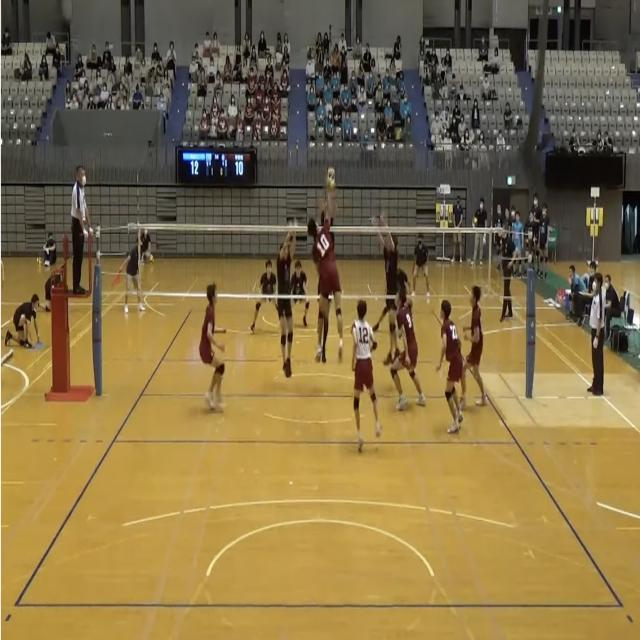spike: (302, 165, 346, 368)
